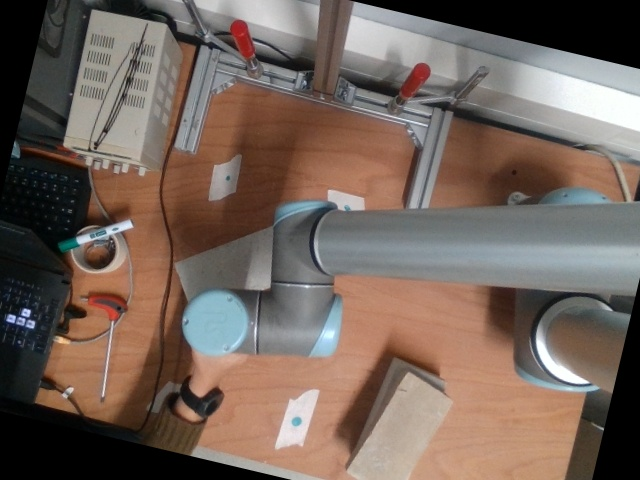brick: (347, 374, 451, 479)
